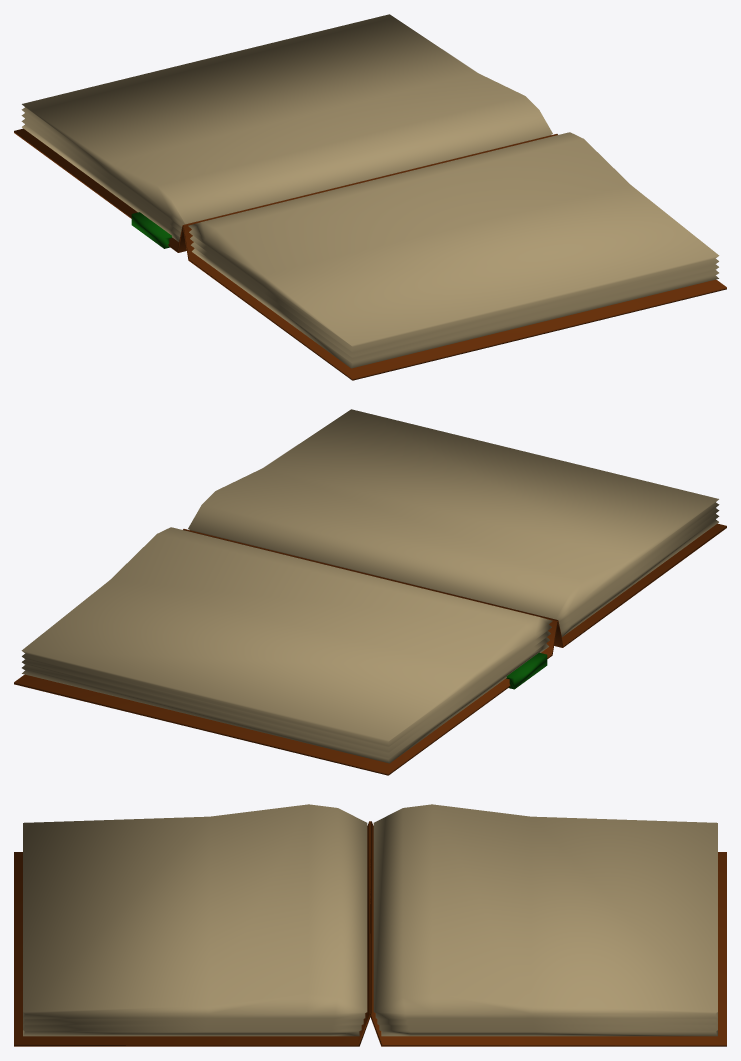
The model's file is CAPTAIN_BOOK_OPEN.fbx.
3 views of the same model, one above another, from view 1: azimuth 30°, elevation 25°; view 2: azimuth 150°, elevation 25°; view 3: azimuth 270°, elevation 25° (orthographic). The views are drawn at different scales.
Parts seen in each view (by area): view 1: BOOK_1_OPEN.001; view 2: BOOK_1_OPEN.001; view 3: BOOK_1_OPEN.001.
Part boxes in pixels (left/top/right/bottom): BOOK_1_OPEN.001: left=14, top=14, right=726, bottom=380; BOOK_1_OPEN.001: left=14, top=409, right=726, bottom=775; BOOK_1_OPEN.001: left=14, top=804, right=726, bottom=1046.
Bounding box in the file's own units: 29.38 × 3.77 × 45.49.
